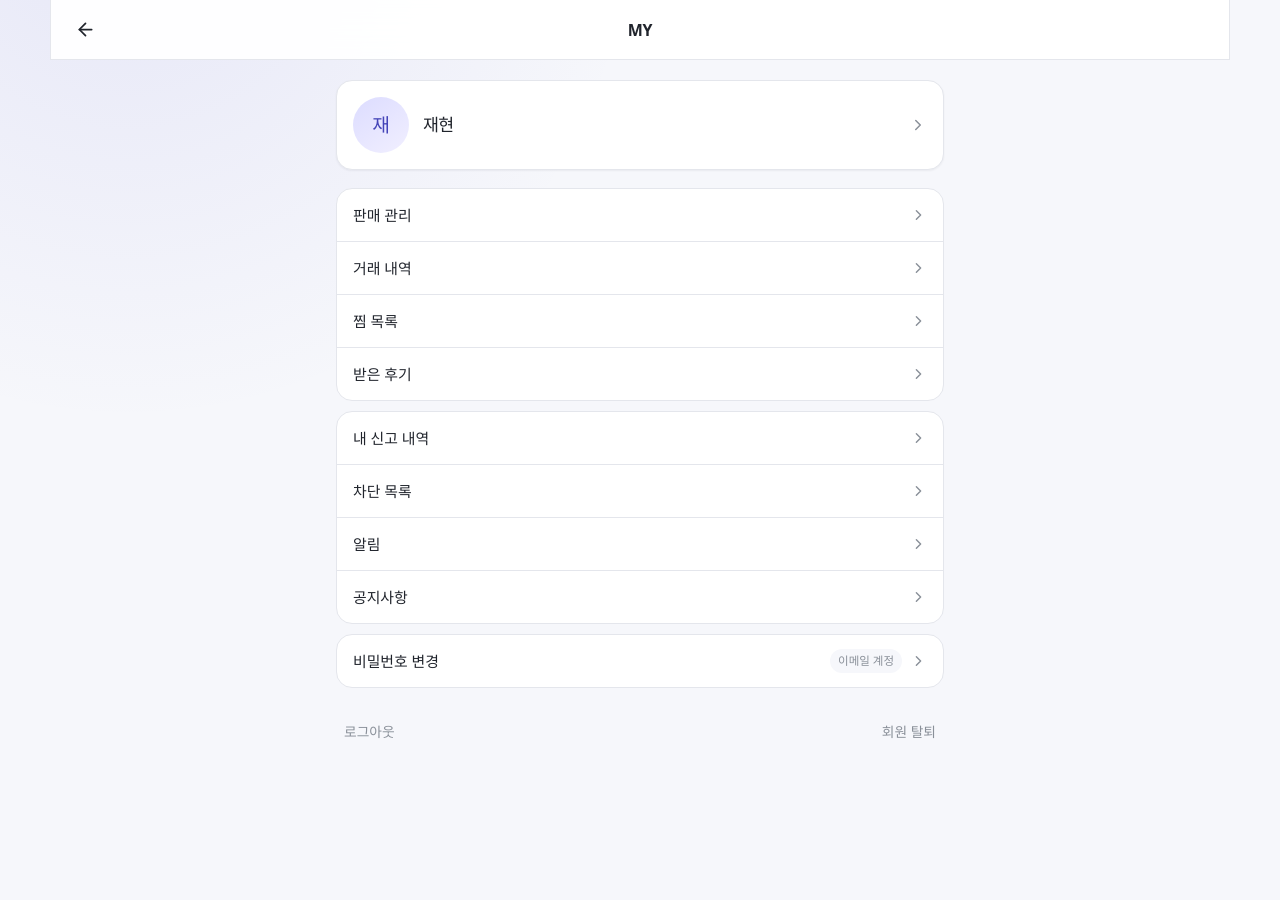
Test: 세션 복구와 로그인 가드 › MY-001-D1 로그아웃하면 가드 안내가 아니라 로그아웃 완료 안내를 보여 준다
The width and height of the screenshot is (1280, 900).
Click the button "로그아웃".
click(369, 732)  # box [340,710,399,754]
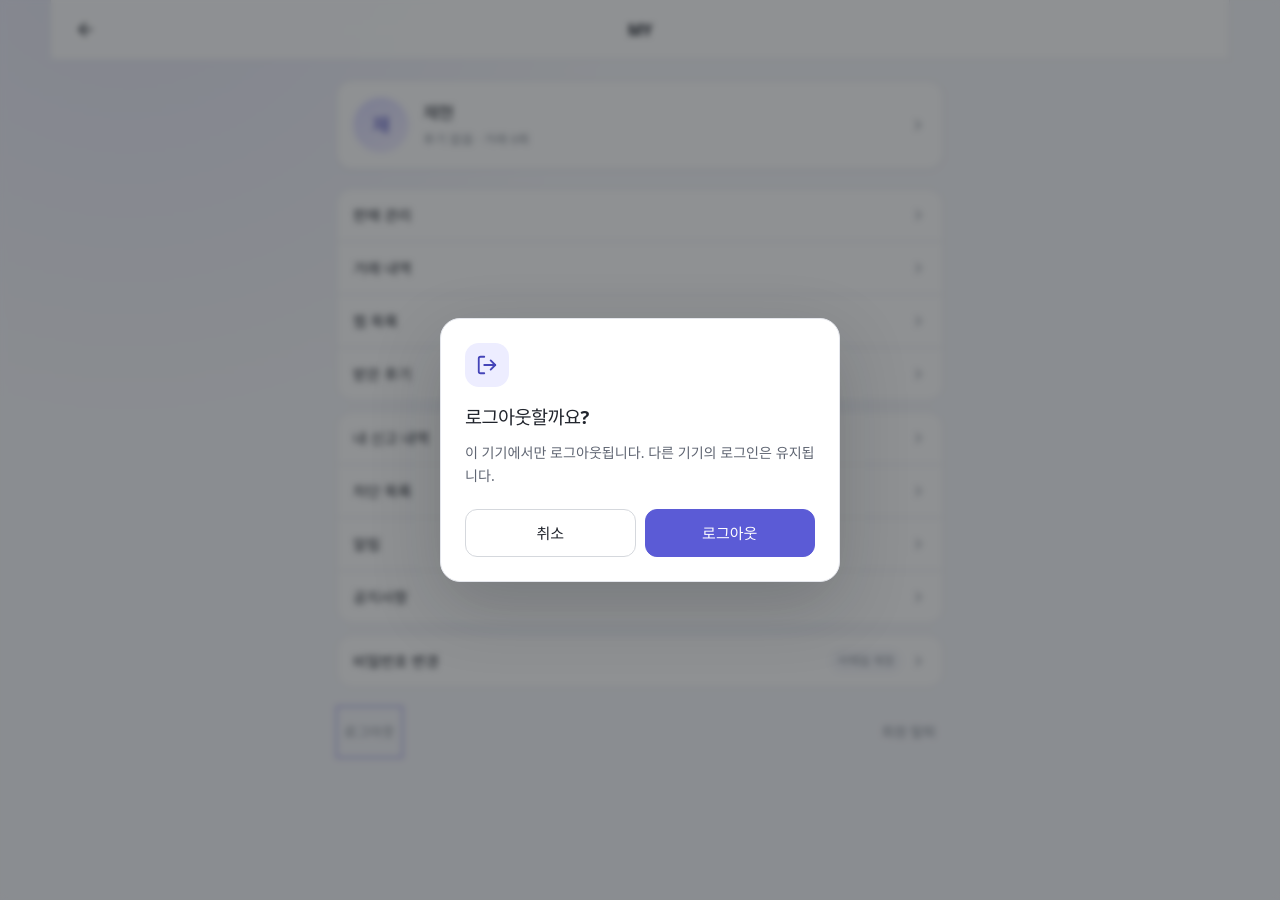
Click the button "로그아웃".
click(730, 533)  # box [644,509,815,557]
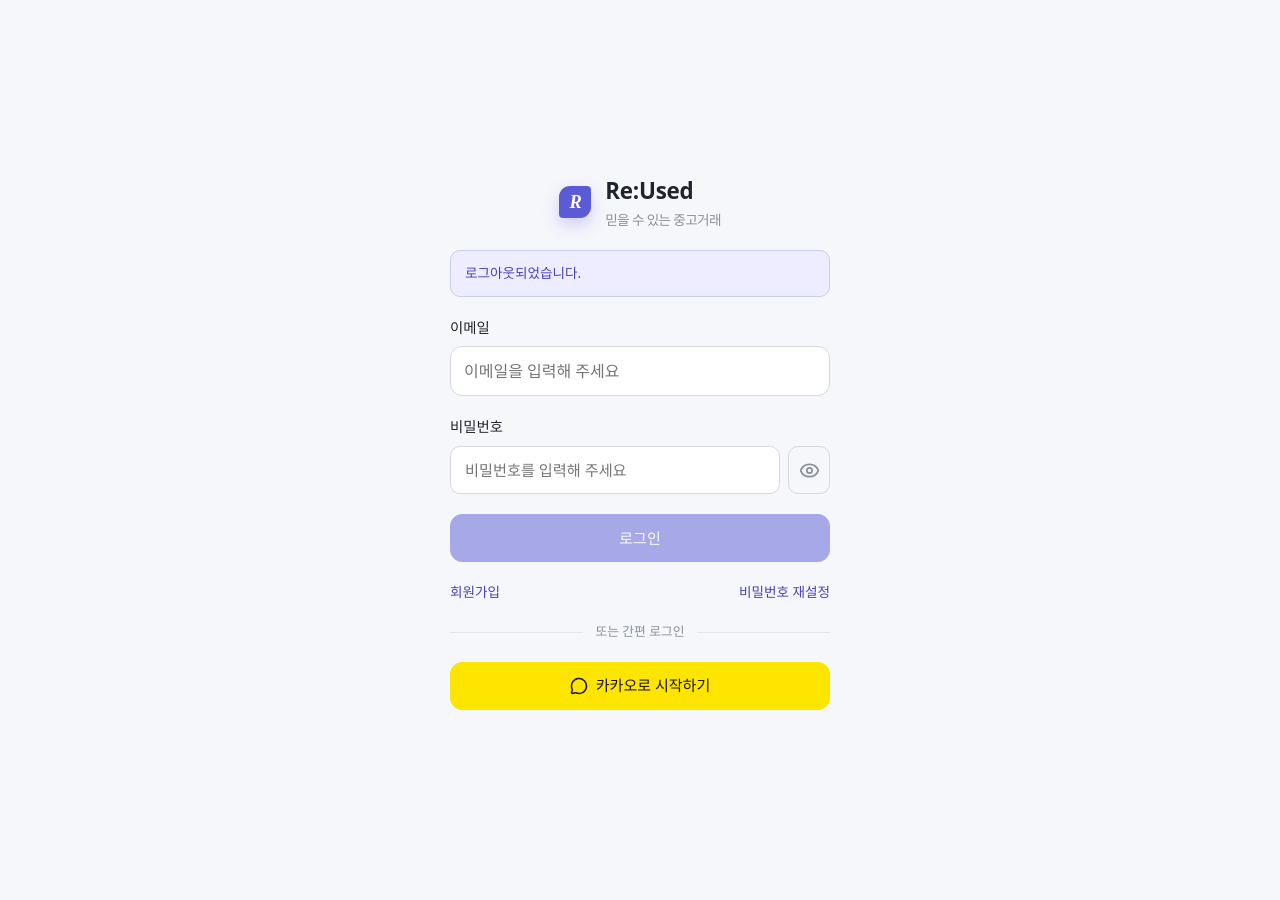
Now the text "로그아웃되었습니다." is shown, box [450,250,830,297]
